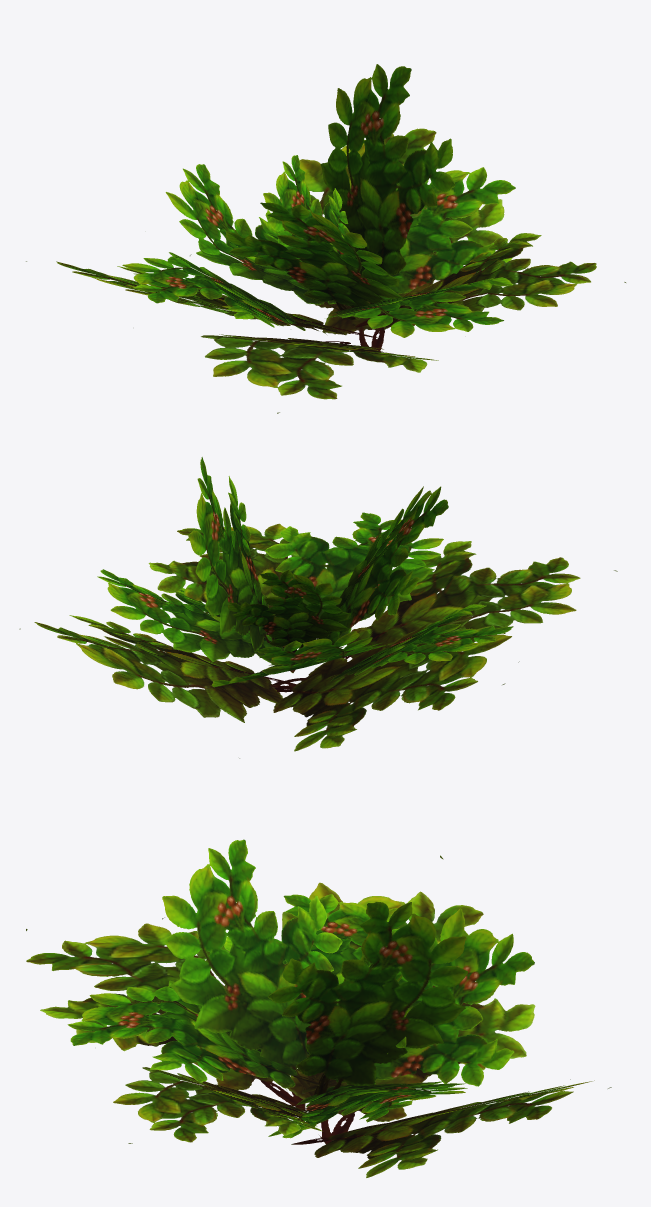
Rendered from wm_灌木洛阳城大灌02.fbx.
3 views of the same model, one above another, from view 1: azimuth 30°, elevation 25°; view 2: azimuth 150°, elevation 25°; view 3: azimuth 270°, elevation 25° (orthographic). The views are drawn at different scales.
Visible parts, largest first — view 1: wm_灌木洛阳城大灌02; view 2: wm_灌木洛阳城大灌02; view 3: wm_灌木洛阳城大灌02.
Boxes of the visible parts, x1,y1,x2,y2 form: wm_灌木洛阳城大灌02: [26, 64, 625, 413]; wm_灌木洛阳城大灌02: [19, 457, 617, 758]; wm_灌木洛阳城大灌02: [26, 839, 611, 1177].
Size of the model in its own units: 213 by 113 by 202.
